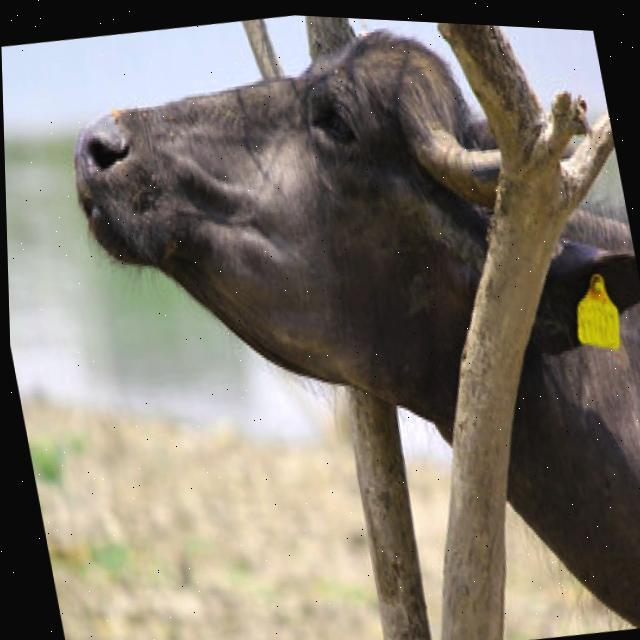Buffalo: (44, 2, 640, 640)
